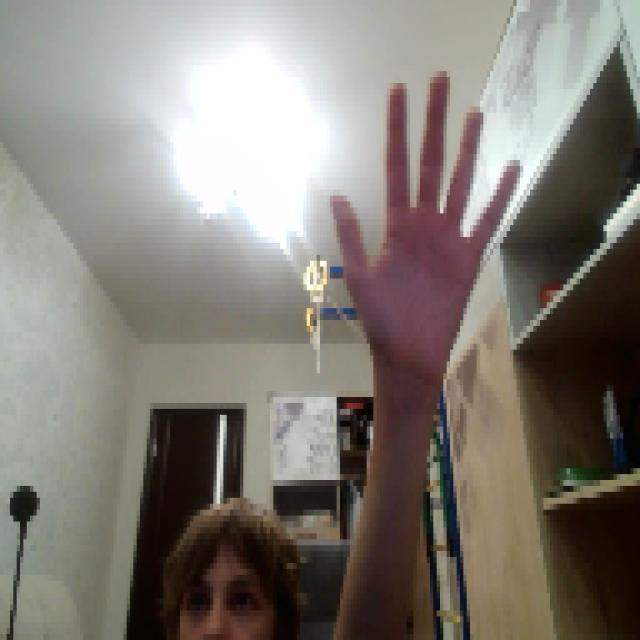hand: (327, 53, 520, 380)
